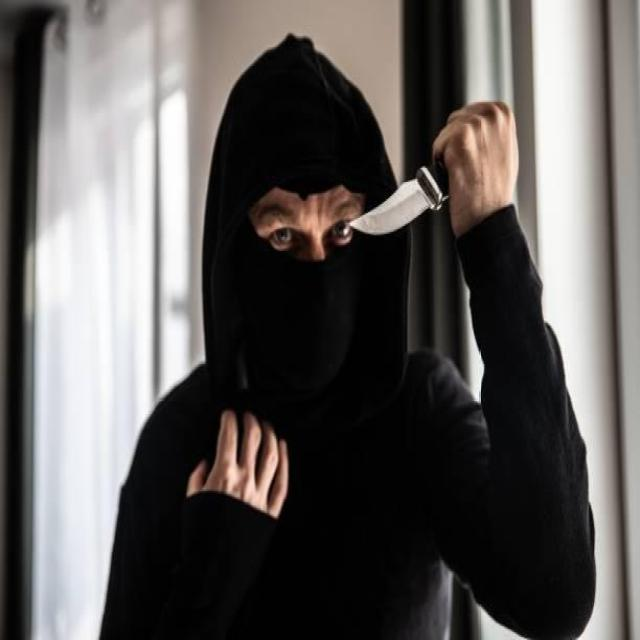faca: (349, 80, 529, 259)
